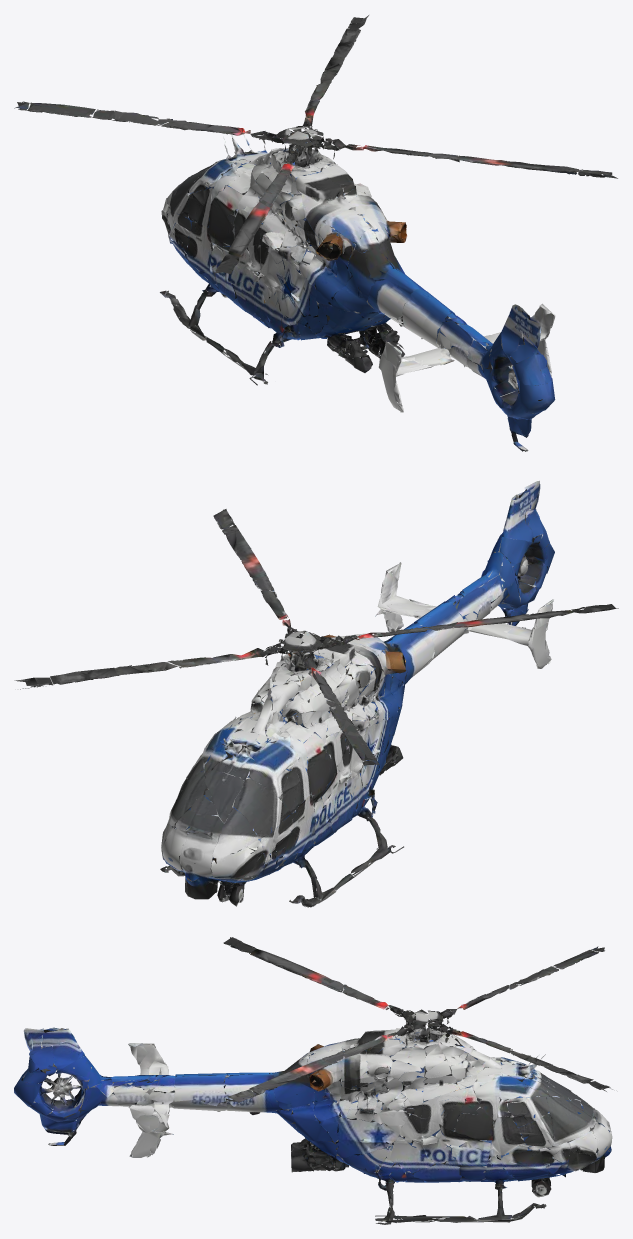
Rendered from heli-pol.glb.
The picture shows the model from 3 angles, top to bottom: view 1: azimuth 30°, elevation 25°; view 2: azimuth 150°, elevation 25°; view 3: azimuth 270°, elevation 25°; orthographic projection. The views are drawn at different scales.
Visible parts, largest first — view 1: cabine, rotor_pales; view 2: cabine, rotor_pales; view 3: cabine, rotor_pales.
Part boxes in pixels (x1,y1,x2,y2): cabine: [160, 134, 555, 451]; rotor_pales: [14, 15, 617, 274]; cabine: [160, 480, 554, 907]; rotor_pales: [14, 509, 618, 765]; cabine: [14, 1010, 612, 1224]; rotor_pales: [223, 937, 612, 1102].
Size of the model in its own units: 1.12 by 0.5898 by 1.74.
1 material, 1 textured.
